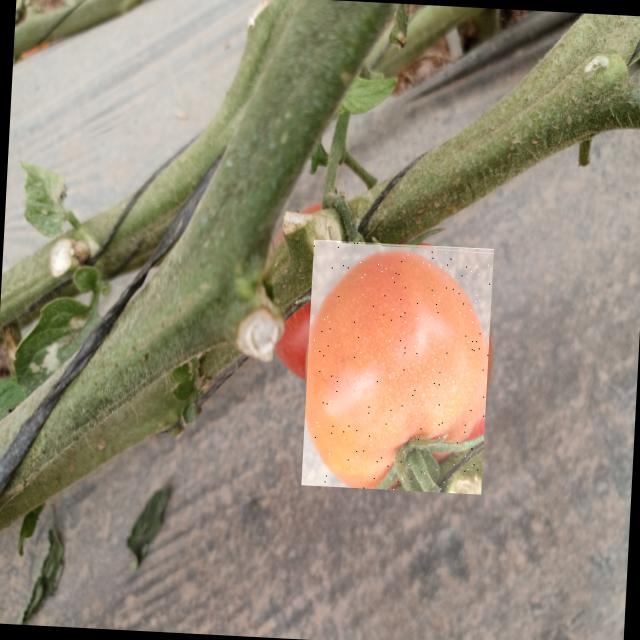Ripe Tomato: (301, 240, 494, 495)
